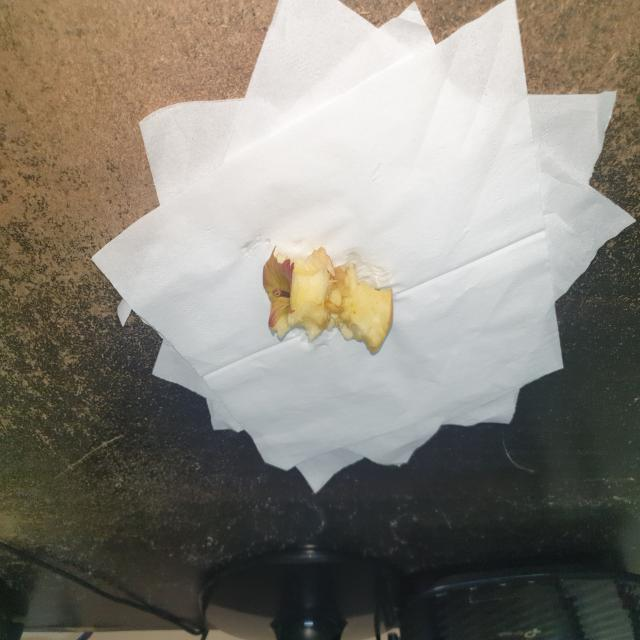apple: (256, 231, 396, 364)
